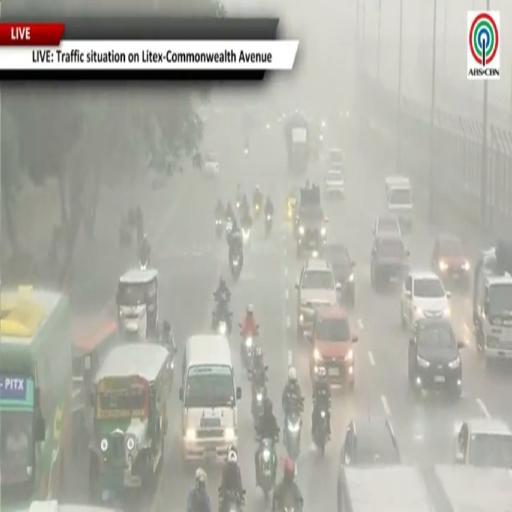bus: (0, 287, 72, 510), (72, 315, 118, 455)
car: (408, 318, 464, 397), (307, 306, 357, 390), (340, 415, 401, 472), (296, 259, 338, 338), (401, 271, 450, 330), (456, 418, 511, 469), (297, 185, 328, 257), (371, 233, 409, 290), (432, 234, 470, 289), (324, 244, 355, 308), (324, 165, 345, 197), (373, 216, 402, 236), (204, 152, 220, 178), (327, 149, 344, 168)
jeepney: (89, 343, 171, 503), (117, 269, 158, 340), (28, 501, 121, 511)
motorcycle: (257, 439, 276, 506), (284, 399, 303, 460), (239, 324, 258, 377), (313, 407, 327, 455), (252, 384, 267, 427), (219, 489, 245, 511), (213, 306, 232, 335), (230, 251, 242, 280), (119, 224, 131, 247), (225, 218, 233, 243), (216, 218, 224, 238), (265, 214, 272, 235), (242, 228, 250, 246), (217, 320, 227, 334), (254, 201, 261, 218), (140, 260, 148, 270)
truck: (473, 240, 511, 362), (338, 466, 434, 511), (435, 466, 511, 511), (285, 111, 311, 174), (385, 176, 412, 230)
